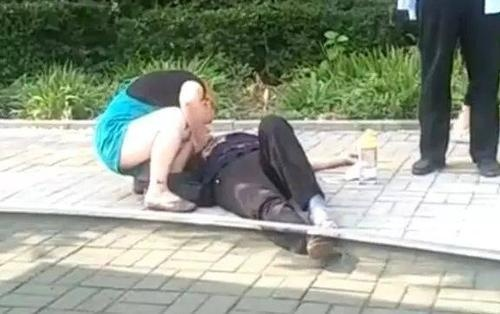falling: (167, 108, 371, 266)
